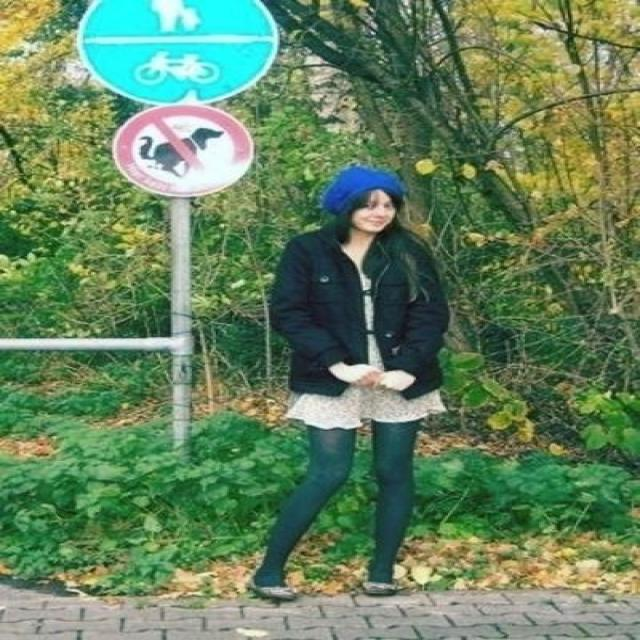hat: (320, 165, 402, 209)
jacket: (250, 218, 452, 400)
shirt: (330, 347, 414, 389)
shoe: (246, 572, 413, 606)
skirt: (288, 377, 445, 428)
